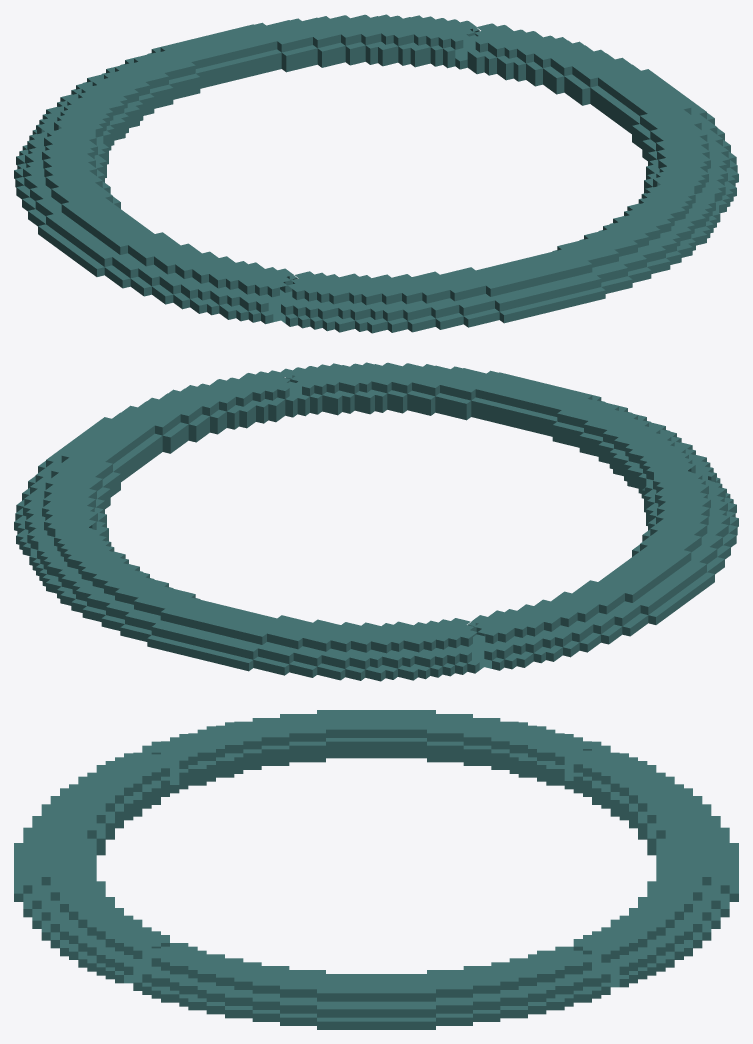
File: ring.obj
3 renders of one model, top to bottom at view 1: azimuth 30°, elevation 25°; view 2: azimuth 150°, elevation 25°; view 3: azimuth 270°, elevation 25°, orthographic.
Visible parts, largest first — view 1: ring; view 2: ring; view 3: ring.
Boxes of the visible parts, box(x1,y1,x2,y2) form: ring: box(14, 14, 738, 333); ring: box(14, 362, 738, 681); ring: box(14, 710, 738, 1029).
Size of the model in its own units: 79 by 3 by 79.
Materials: 1 (1 with a texture image).
